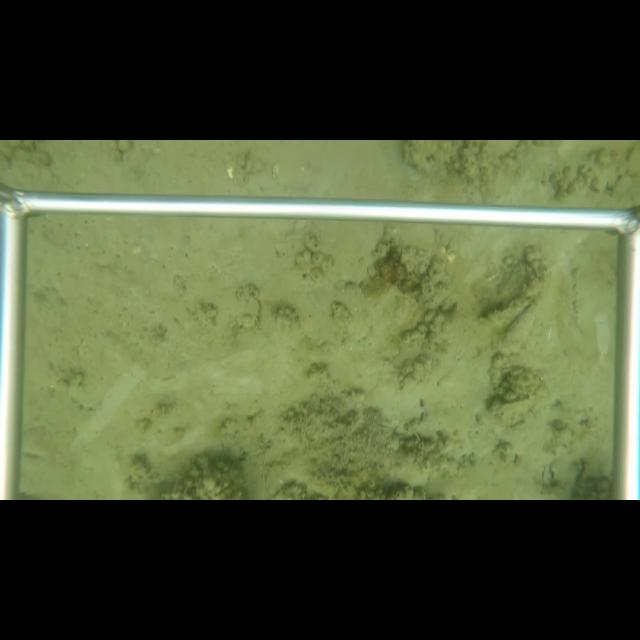Oyster-Closed: (384, 219, 436, 275), (502, 302, 538, 356)
